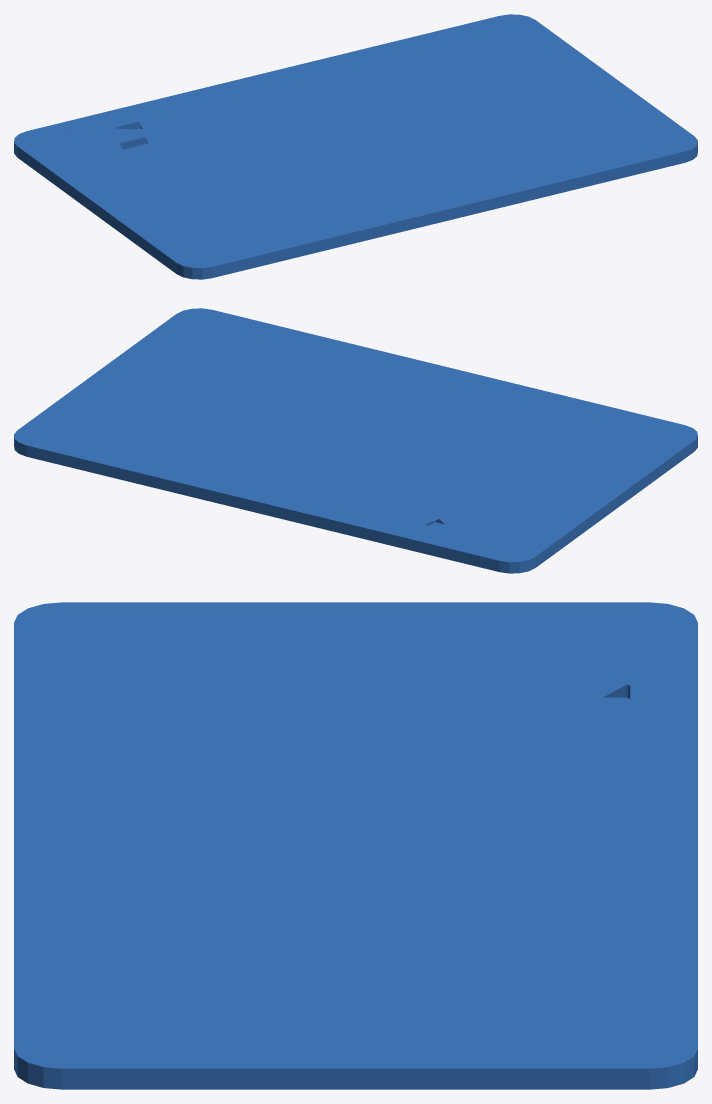
The model's file is workmat.fbx.
The picture shows the model from 3 angles, top to bottom: view 1: azimuth 30°, elevation 25°; view 2: azimuth 150°, elevation 25°; view 3: azimuth 270°, elevation 25°; orthographic projection. The views are drawn at different scales.
Visible parts, largest first — view 1: Plane; view 2: Plane; view 3: Plane.
Part boxes in pixels (left/top/right/bottom): Plane: left=14, top=14, right=697, bottom=279; Plane: left=14, top=308, right=697, bottom=573; Plane: left=14, top=602, right=697, bottom=1089.
Bounding box in the file's own units: 2737 × 57.2 × 1697.
